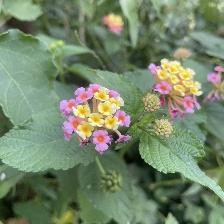common lanthana: (59, 82, 134, 157)
